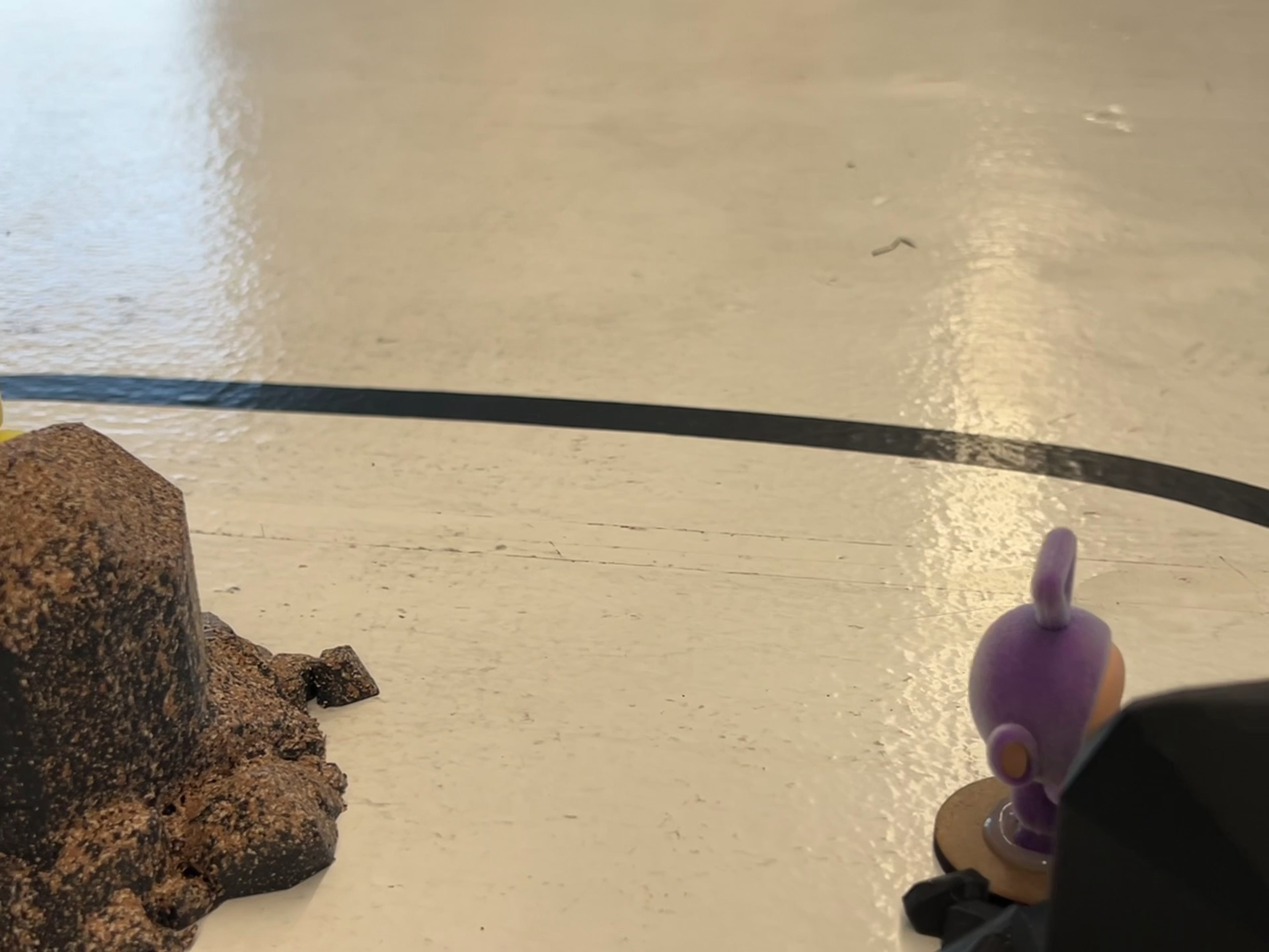teletubby: (968, 528, 1124, 855)
